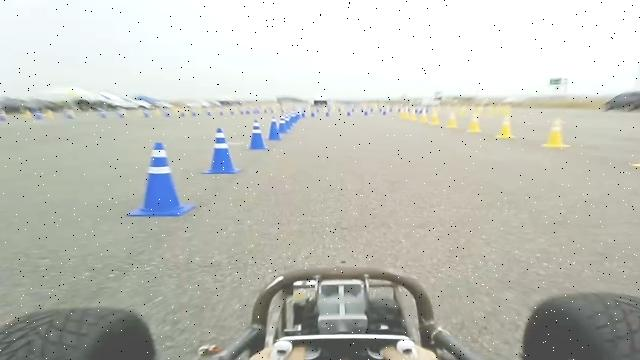blue cone: (126, 141, 195, 217), (200, 127, 242, 174), (245, 119, 269, 150), (266, 117, 282, 141)
yellow cone: (541, 117, 570, 148), (495, 114, 515, 138), (631, 131, 640, 170), (467, 113, 481, 133), (444, 111, 458, 128), (430, 107, 441, 125), (418, 107, 428, 123), (399, 106, 409, 119), (409, 108, 418, 121)
